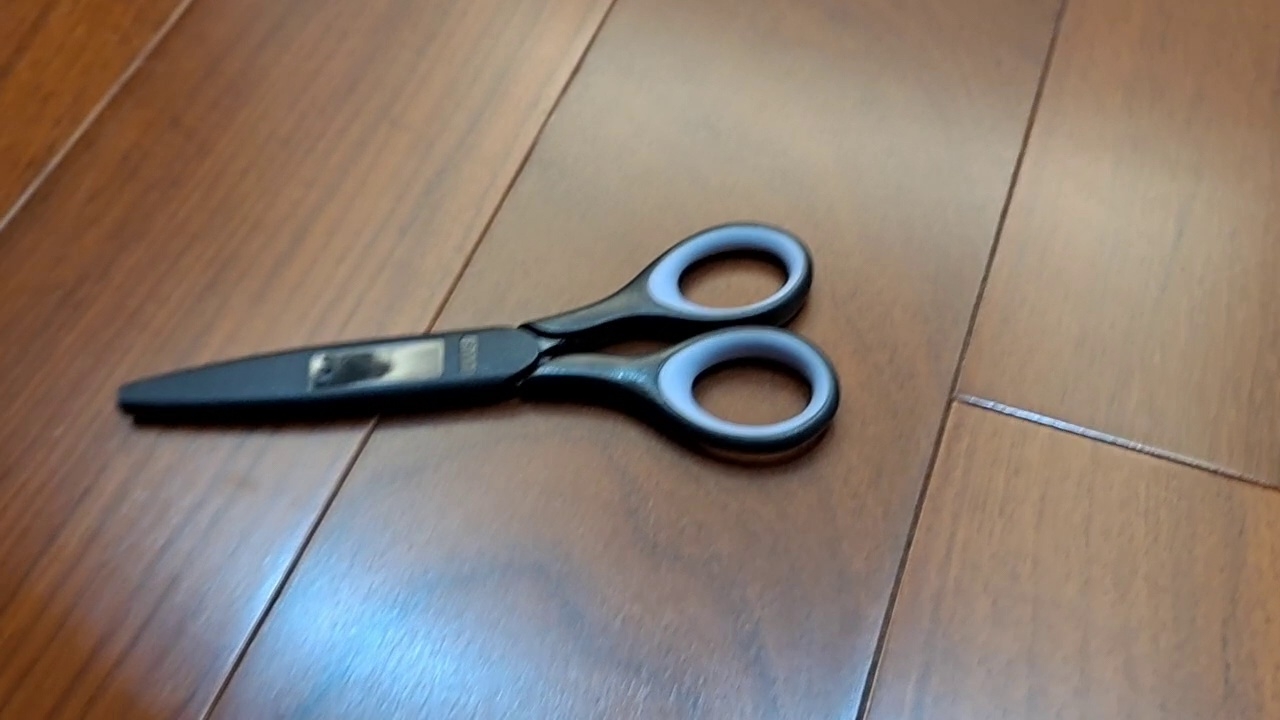scissors: (114, 219, 842, 462)
